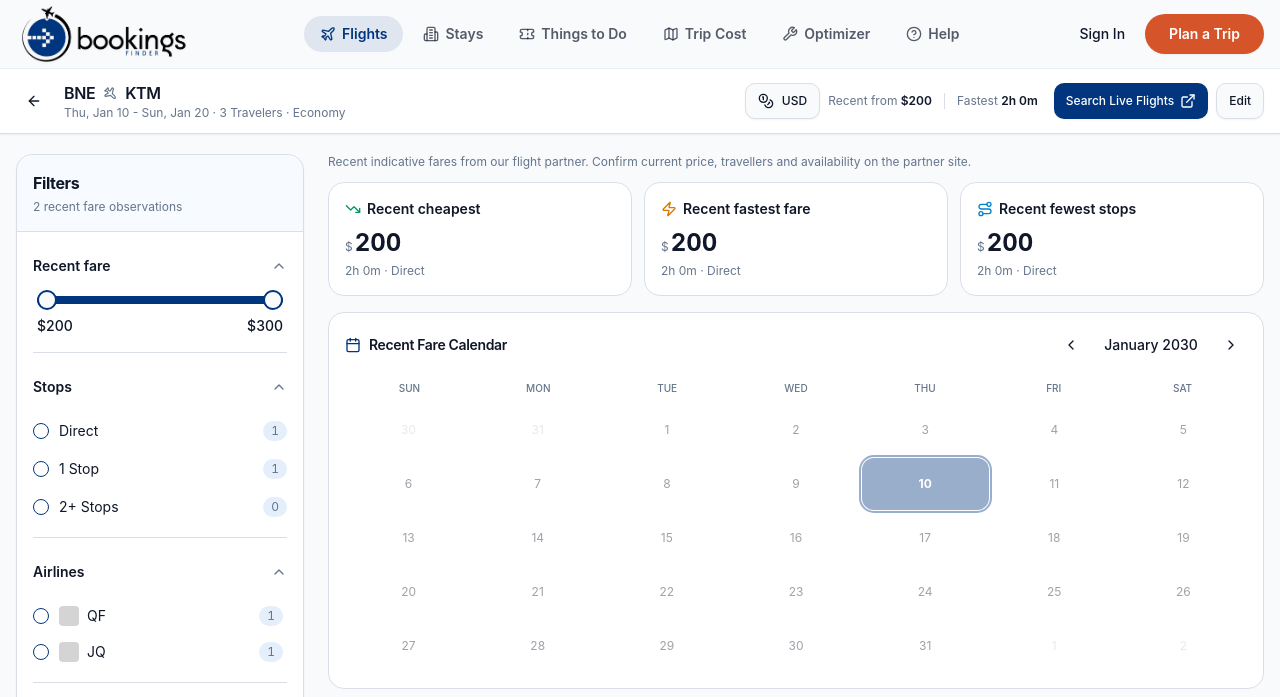
Test: FlightResults desktop Edit — write boundary › writes nothing when Edit is cancelled
What coordinates should you click on to do the following:
click the button "Edit"
I would click on:
 (1240, 101)
Its box is [1216,83,1264,119].
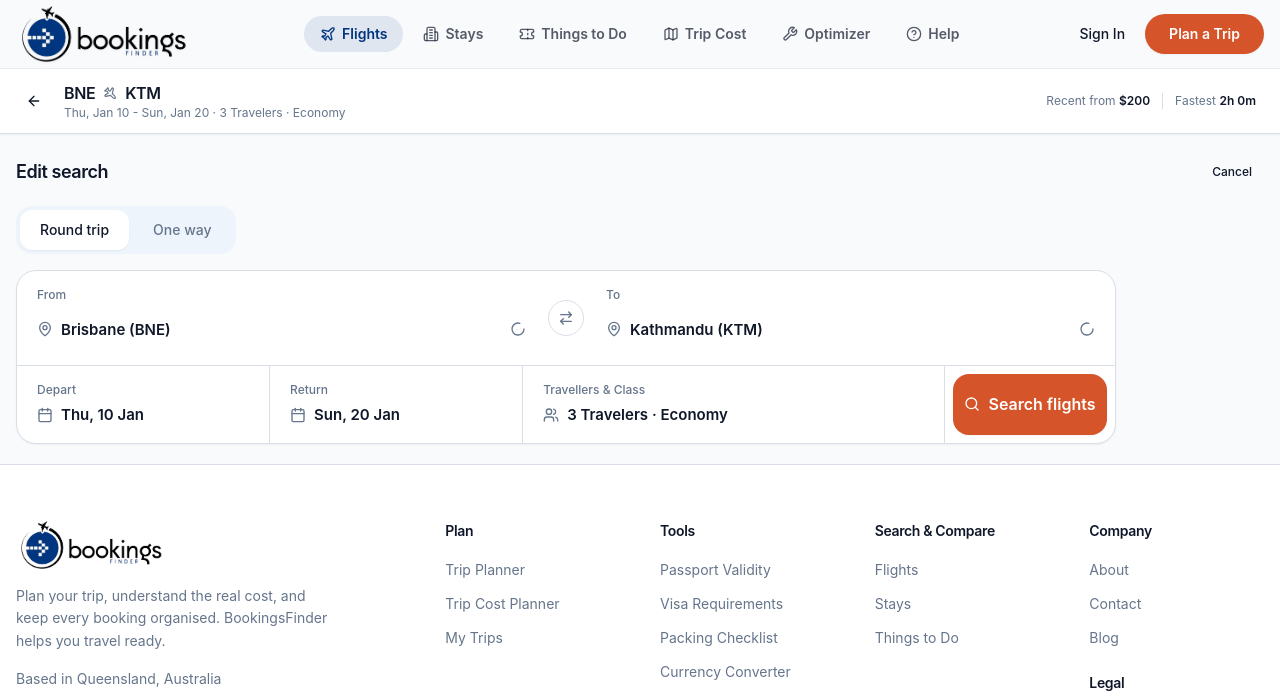
Expected: the element "Edit search" is shown, [16,154,1264,444]
What coordinates should you click on to do the following:
click the button "Cancel"
I would click on:
 (1232, 172)
Its box is [1200,154,1264,190].
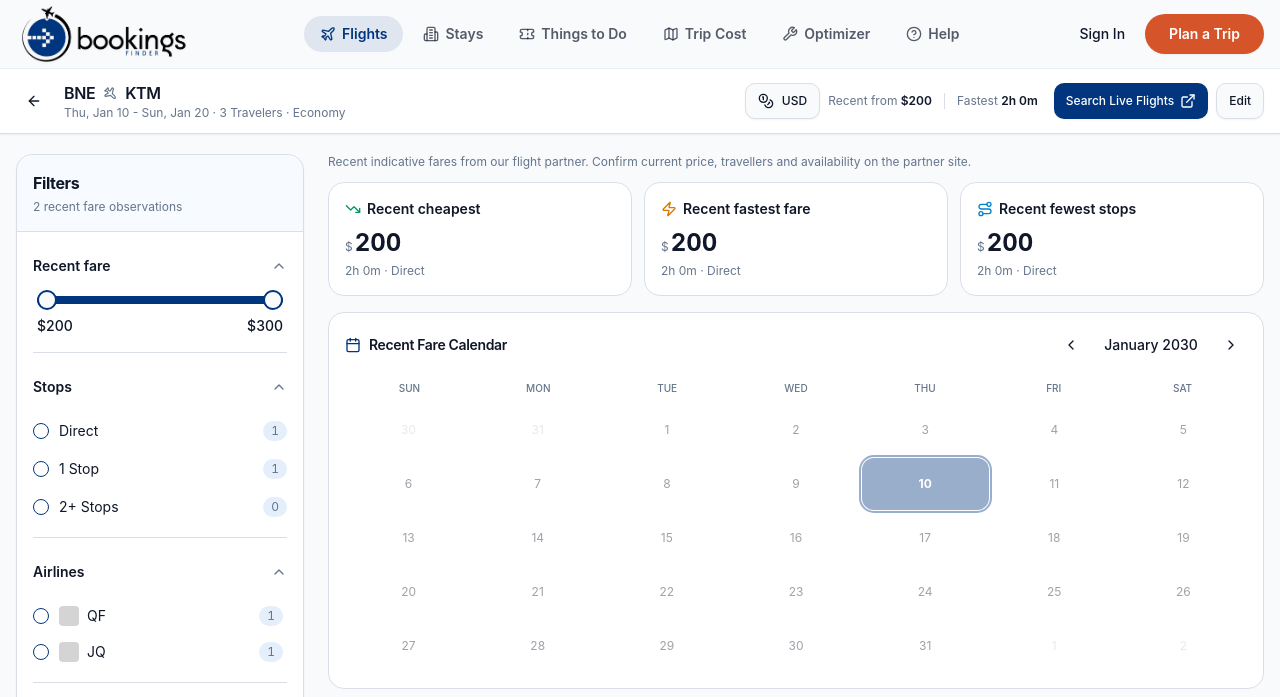
Expected: the heading "Edit search" is gone
